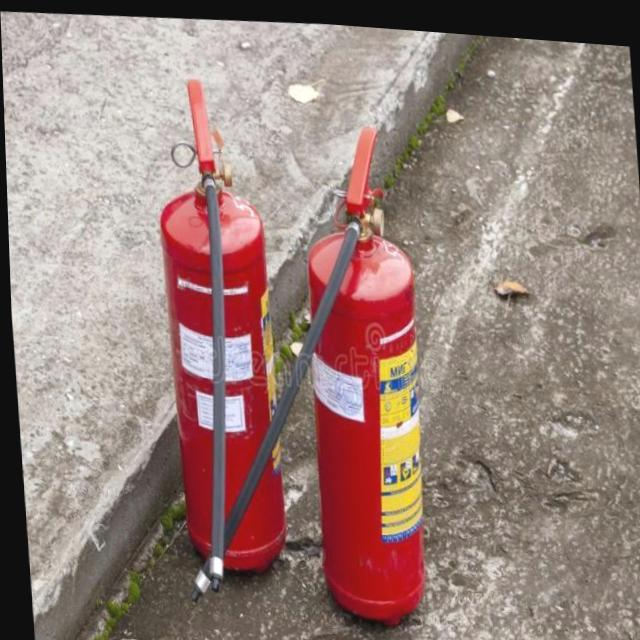FireExtinguisher: (154, 103, 439, 633), (143, 60, 289, 583)
